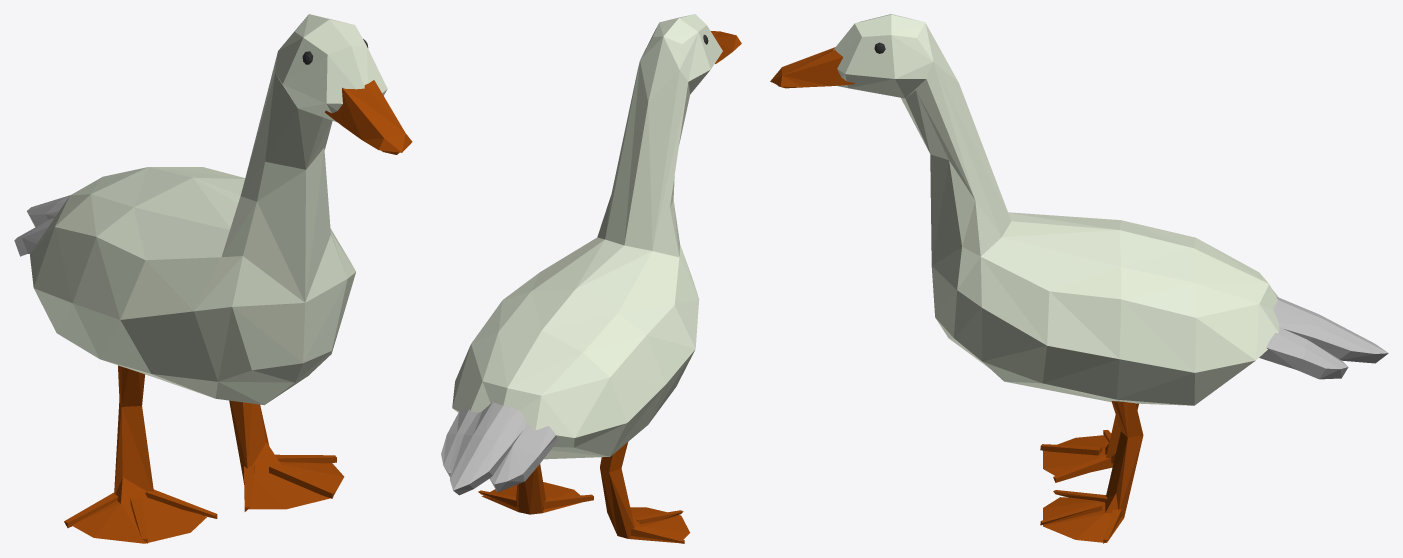
File: animals-duck-080.glb
3 renders of one model, left to right at view 1: azimuth 30°, elevation 25°; view 2: azimuth 150°, elevation 25°; view 3: azimuth 270°, elevation 25°, orthographic. The views are drawn at different scales.
Visible parts, largest first — view 1: Node; view 2: Node; view 3: Node.
Boxes of the visible parts, x1,y1,x2,y2 form: Node: (14,14,412,543); Node: (441,14,741,543); Node: (770,14,1388,543).
Size of the model in its own units: 1.77 by 3.56 by 4.2.
